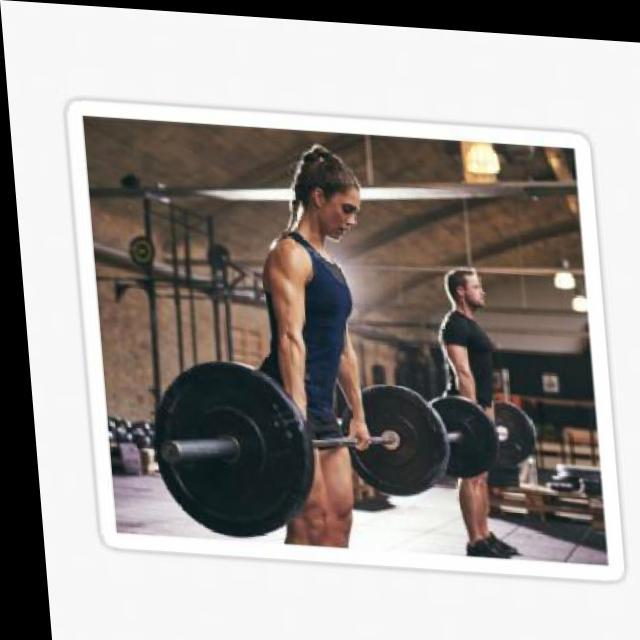barbell: (140, 349, 312, 544)
